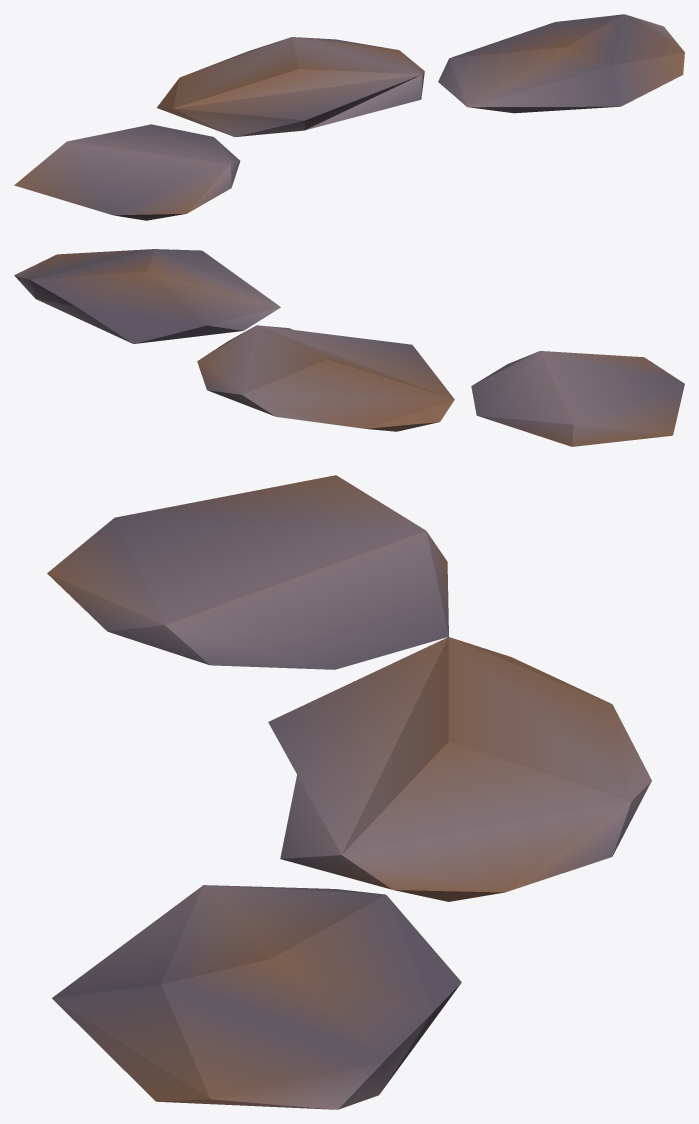
The model's file is grove_stones-lod1.glb.
3 renders of one model, top to bottom at view 1: azimuth 30°, elevation 25°; view 2: azimuth 150°, elevation 25°; view 3: azimuth 270°, elevation 25°, orthographic. The views are drawn at different scales.
Parts seen in each view (by area): view 1: grove_stones; view 2: grove_stones; view 3: grove_stones.
Boxes of the visible parts, box(x1,y1,x2,y2) form: grove_stones: box(14, 14, 684, 220); grove_stones: box(14, 249, 684, 446); grove_stones: box(47, 475, 651, 1109).
Bounding box in the file's own units: 4.23 × 0.2271 × 1.7.
